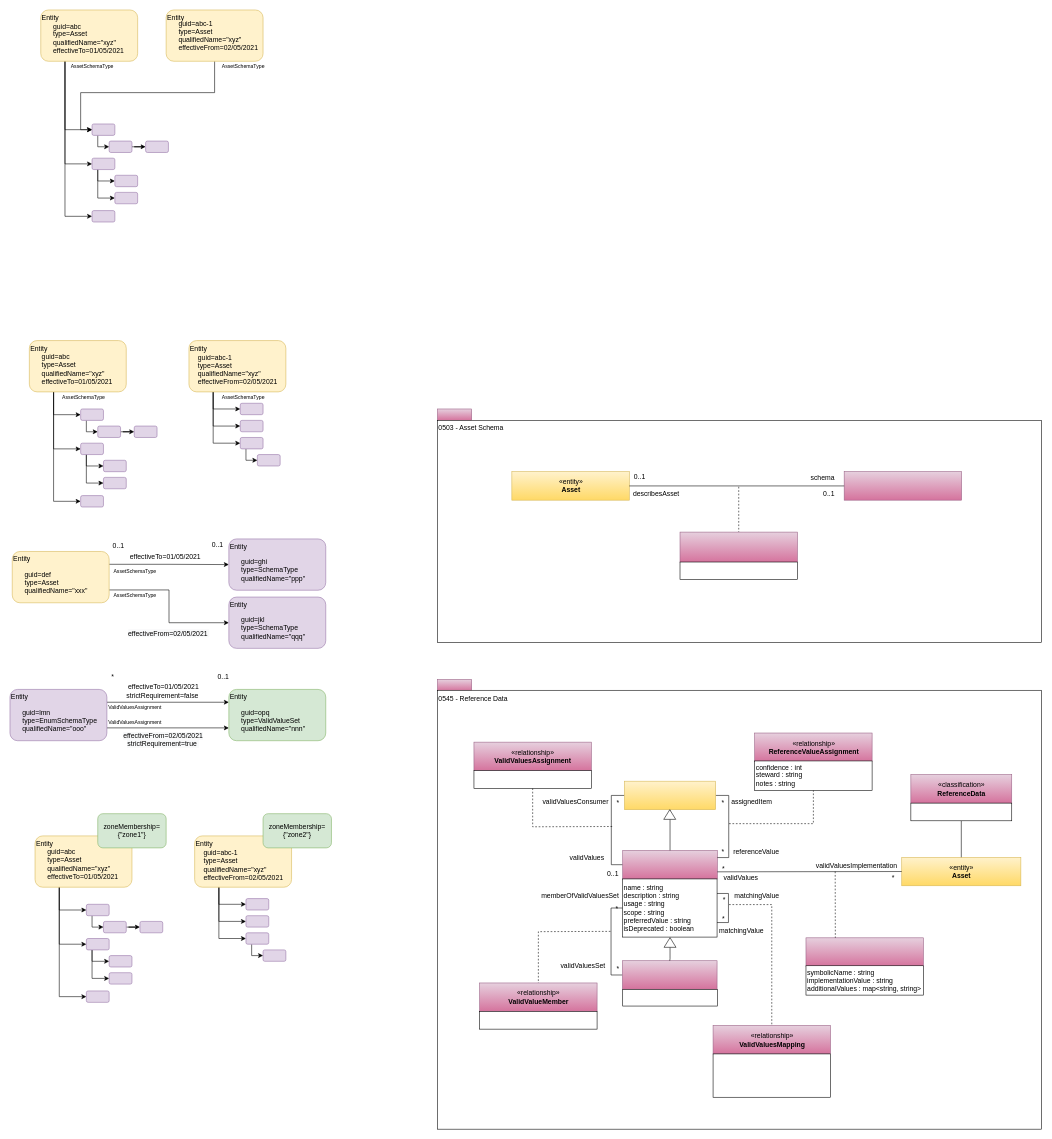
This 1052x1139 diagram has some shape labels left out. The centre of each missing label's shape, as x and y in pixels:
"associationDescription : string confidence : int steward : string notes : string" belongs at point 771,1075.
"strictRequirement : boolean" belongs at point 532,779.
"«entity» Referenceable" belongs at point 670,795.
"«entity» SchemaType" belongs at point 903,485.
"«entity» ValidValueDefinition" belongs at point 669,864.
"«entity» ValidValuesSet" belongs at point 669,974.
"«relationship» AssetSchemaType" belongs at point 738,547.
"«relationship» ValidValuesImplementation" belongs at point 864,951.
